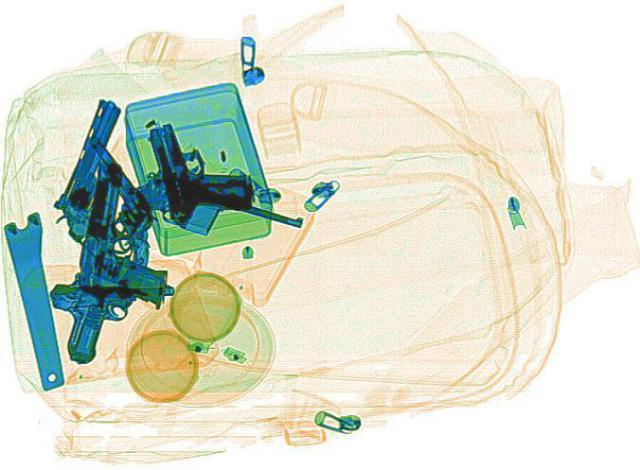Gun: (32, 97, 196, 274), (110, 167, 304, 275), (25, 134, 175, 252), (69, 173, 183, 307), (143, 112, 260, 221), (42, 280, 175, 365)
